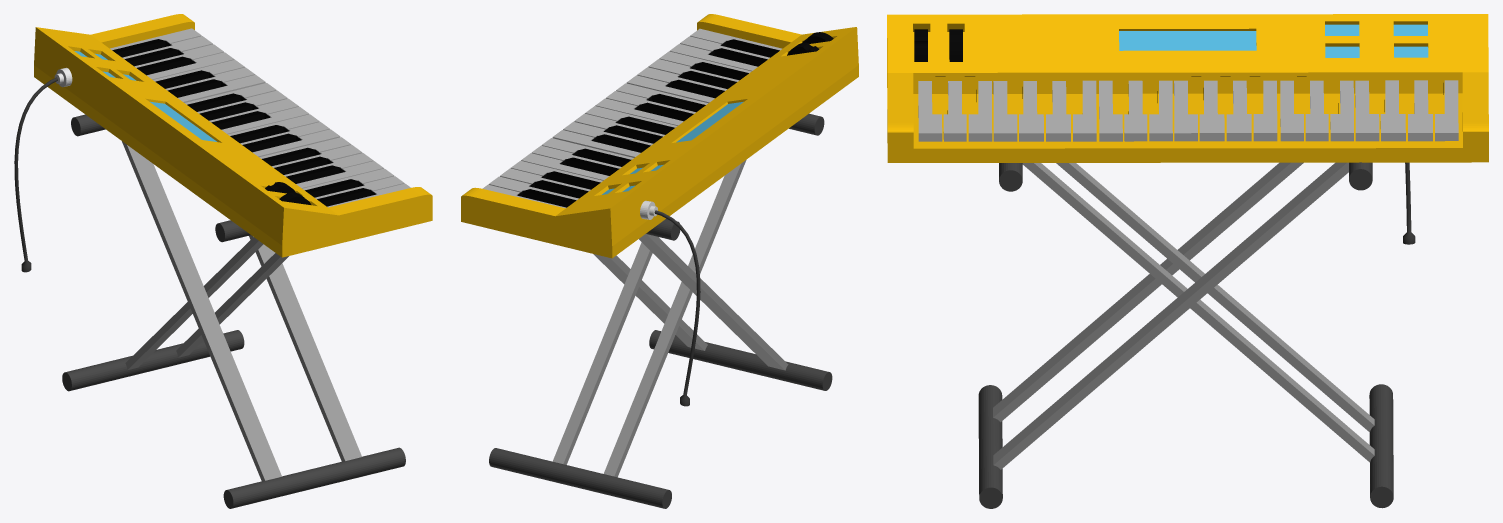
The model's file is piano5.glb.
The picture shows the model from 3 angles, left to right: view 1: azimuth 30°, elevation 25°; view 2: azimuth 150°, elevation 25°; view 3: azimuth 270°, elevation 25°; orthographic projection. The views are drawn at different scales.
Visible parts, largest first — view 1: Cylinder.005; view 2: Cylinder.005; view 3: Cylinder.005.
Boxes of the visible parts, bbox=[...] form: Cylinder.005: bbox=[14, 14, 432, 508]; Cylinder.005: bbox=[461, 14, 858, 508]; Cylinder.005: bbox=[887, 14, 1488, 508].
Size of the model in its own units: 0.4632 by 0.6725 by 0.9181.
